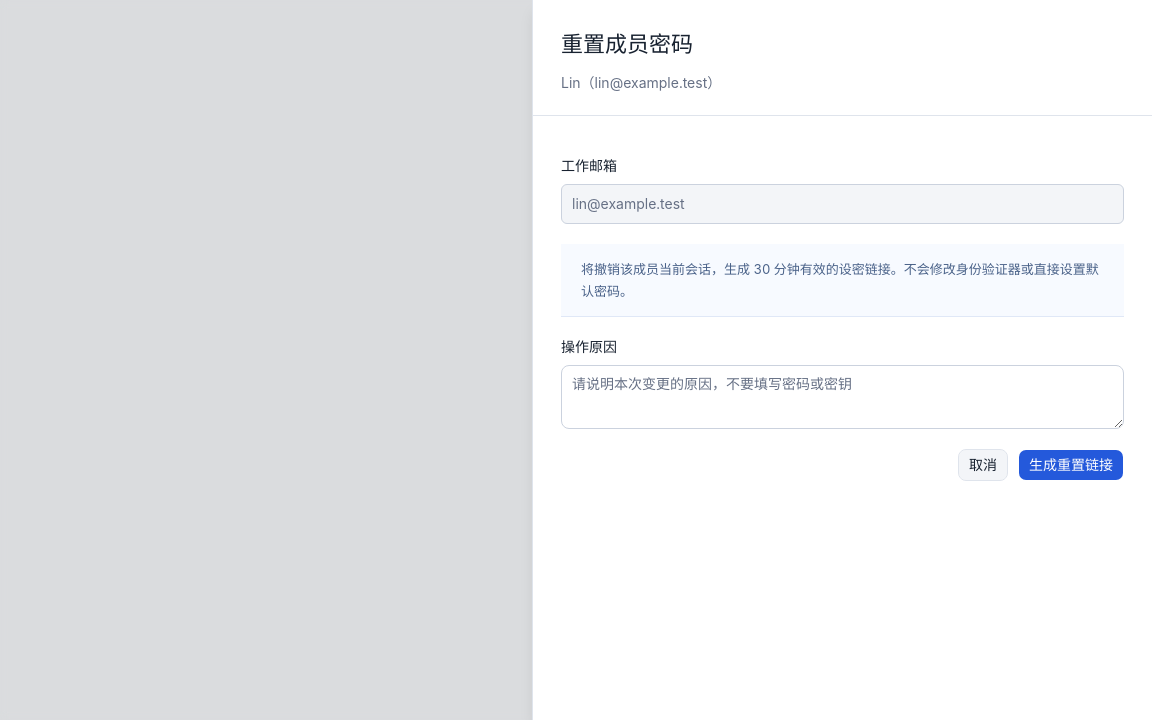
Test: submits member resetPassword and does not send passwords or MFA state
Type "按已审批的团队岗位调整" into the text box labelled "操作原因" at (842, 397), box [561,365,1124,429]
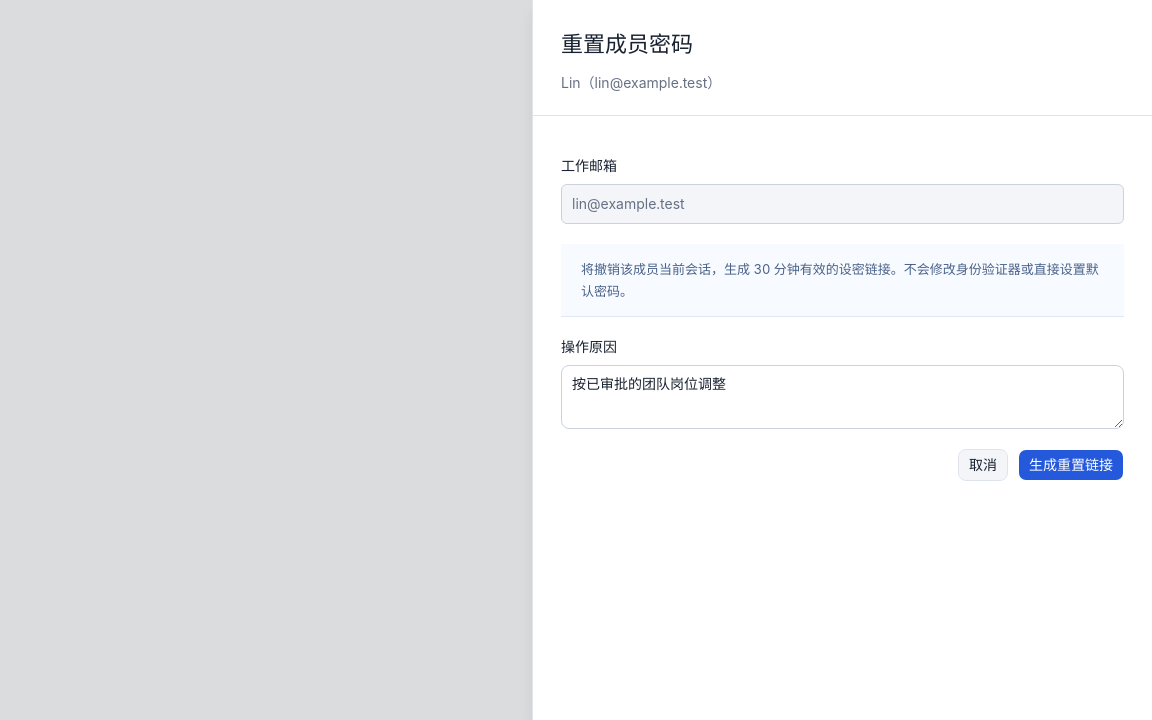
Click the button "生成重置链接" at (1071, 465), box [1018,449,1124,481]
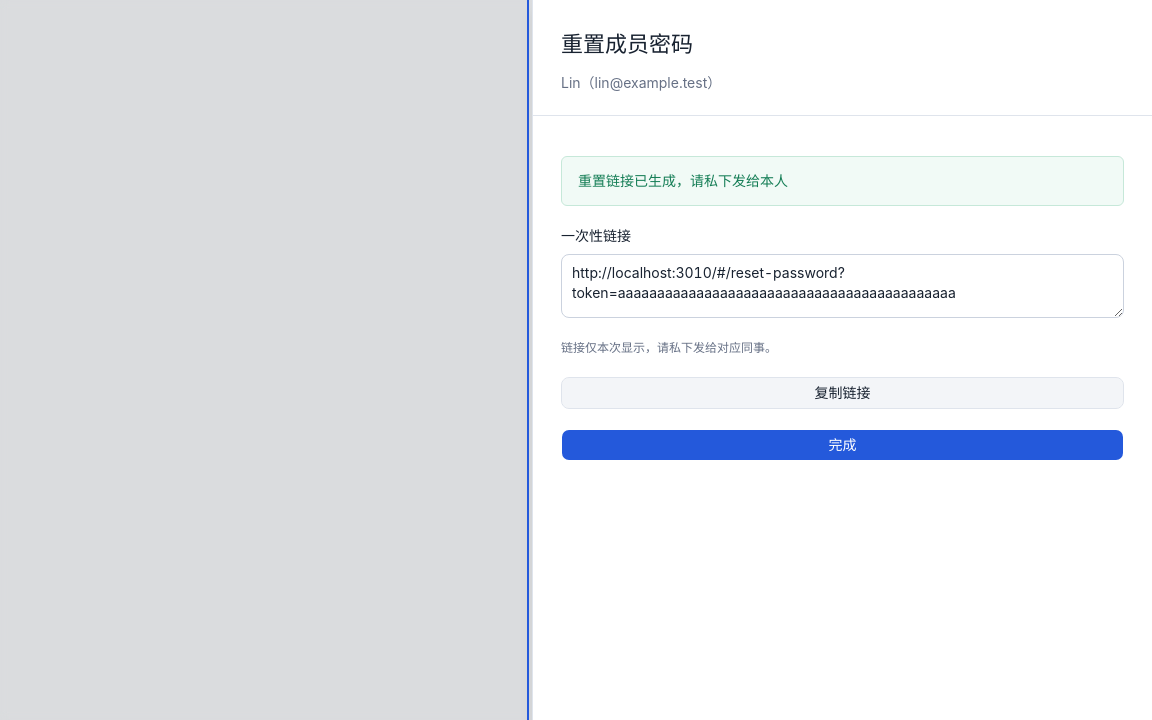
Expected: the text box labelled "一次性链接" is shown, [561,254,1124,318]
